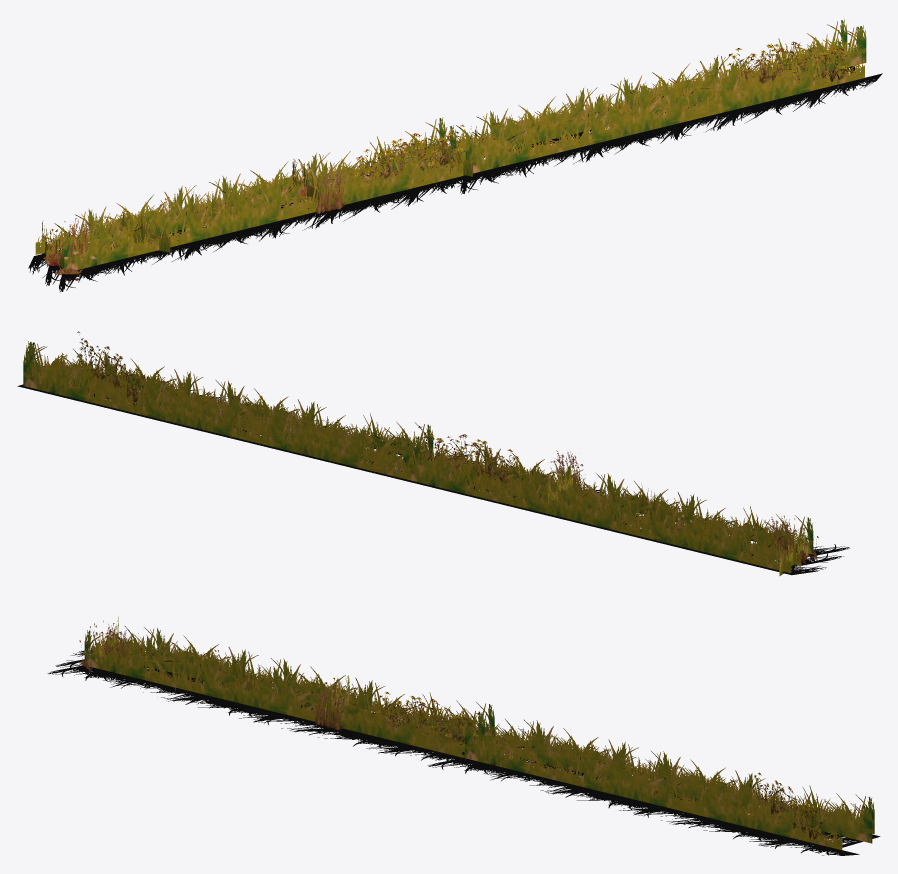
File: grass_right.obj
3 views of the same model, one above another, from view 1: azimuth 30°, elevation 25°; view 2: azimuth 150°, elevation 25°; view 3: azimuth 330°, elevation 25° (orthographic). The views are drawn at different scales.
Visible parts, largest first — view 1: pPlane36; view 2: pPlane36; view 3: pPlane36.
Part boxes in pixels (bbox=[...]): pPlane36: bbox=[28, 19, 882, 291]; pPlane36: bbox=[17, 331, 849, 576]; pPlane36: bbox=[47, 616, 880, 855].
Bounding box in the file's own units: 45.4 × 2.81 × 4.53.
